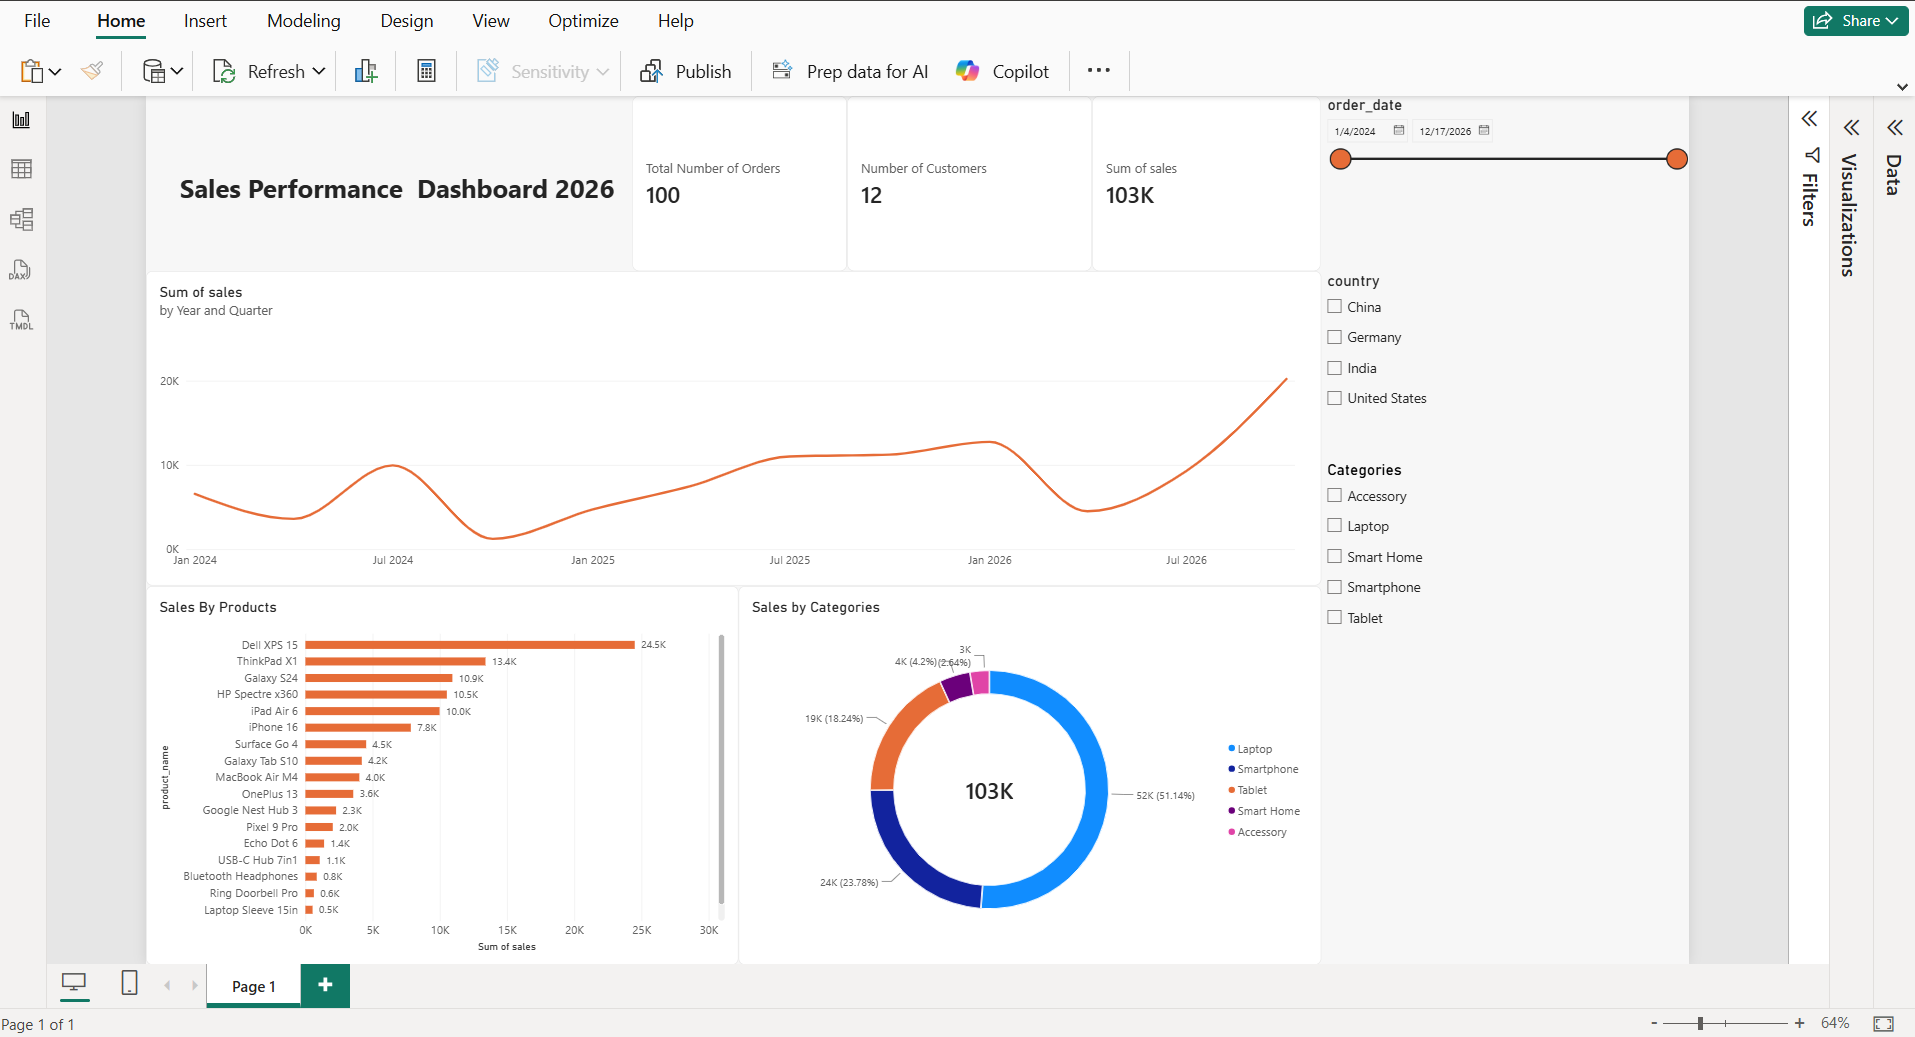

The page's visual inventory and layout, read from the dashboard file:
{"tool":"powerbi","page":{"name":"Page 1","canvas":[1920,1080],"ordinal":0},"visuals":[{"type":"barChart","title":"Sales By Products","fields":{"Category":["orders.product_name"],"Y":["Sum(orders.sales)"]},"box":[0,609.3,736.9,471.4],"z":0},{"type":"donutChart","fields":{"Category":["orders.product_category"],"Y":["Sum(orders.sales)"]},"box":[736.9,609.3,724.5,471.4],"z":1000},{"type":"cardVisual","fields":{"Data":["CountNonNull(orders.order_id)"]},"box":[605.1,0,267.6,218.2],"z":2000},{"type":"cardVisual","fields":{"Data":["Count(orders.customer_id)"]},"box":[872.7,0,304.6,218.2],"z":3000},{"type":"cardVisual","fields":{"Data":["Sum(orders.sales)"]},"box":[1177.4,0,284,218.2],"z":4000},{"type":"lineChart","fields":{"Category":["orders.order_date.Variation.Date Hierarchy.Year","orders.order_date.Variation.Date Hierarchy.Quarter","orders.order_date.Variation.Date Hierarchy.Month","orders.order_date.Variation.Date Hierarchy.Day"],"Y":["Sum(orders.sales)"]},"box":[0,218.2,1461.4,391.1],"z":5000},{"type":"slicer","fields":{"Values":["customers.country"]},"box":[1460.9,218.8,459.4,234.4],"z":6000},{"type":"slicer","fields":{"Values":["orders.product_category"]},"box":[1460.9,453.1,459,442.5],"z":7000},{"type":"slicer","fields":{"Values":["orders.order_date"]},"box":[1461.4,0,459,201.7],"z":8000},{"type":"textbox","box":[0,0,605,218],"z":10000}]}

Visuals, with their boxes on the page's 1920x1080 design canvas (x1, y1, x2, y2). These are canvas units, not pixel positions in the 1915x1037 screenshot, which may show the page scaled, cropped or inside an application window:
"Sales By Products" barChart: 0, 609, 737, 1081
donutChart - orders.product_category x Sum(orders.sales): 737, 609, 1461, 1081
cardVisual - CountNonNull(orders.order_id): 605, 0, 873, 218
cardVisual - Count(orders.customer_id): 873, 0, 1177, 218
cardVisual - Sum(orders.sales): 1177, 0, 1461, 218
lineChart - orders.order_date.Variation.Date Hierarchy.Year x orders.order_date.Variation.Date Hierarchy.Quarter: 0, 218, 1461, 609
slicer - customers.country: 1461, 219, 1920, 453
slicer - orders.product_category: 1461, 453, 1920, 896
slicer - orders.order_date: 1461, 0, 1920, 202
textbox: 0, 0, 605, 218
